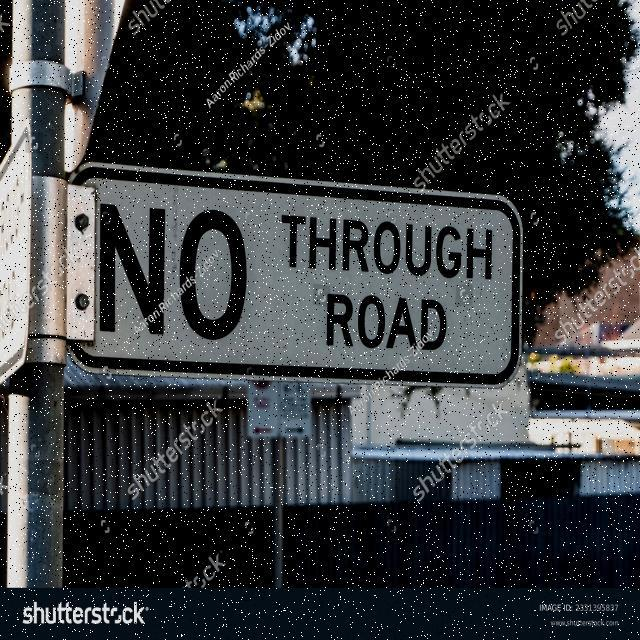Traffic sign: (59, 154, 527, 394)
